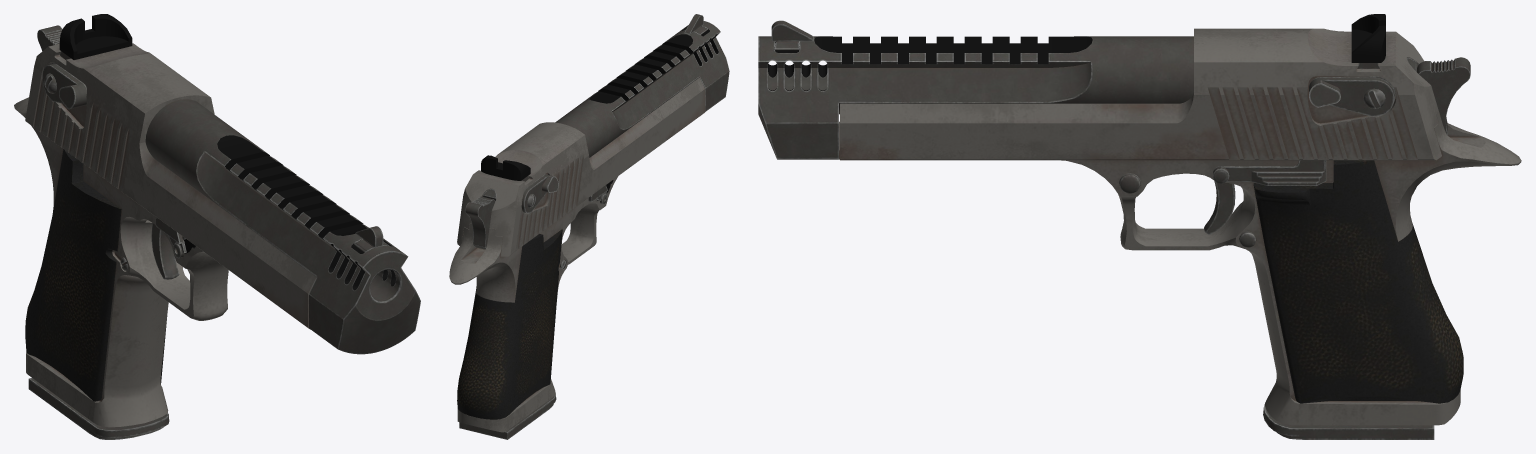
File: desert_eagle_gun.glb
The picture shows the model from 3 angles, left to right: view 1: azimuth 30°, elevation 25°; view 2: azimuth 150°, elevation 25°; view 3: azimuth 270°, elevation 25°; orthographic projection. The views are drawn at different scales.
Parts seen in each view (by area): view 1: Desert Eagle_2; view 2: Desert Eagle_2; view 3: Desert Eagle_2.
Part boxes in pixels (x1=…): Desert Eagle_2: x1=14, y1=14, x2=420, y2=439; Desert Eagle_2: x1=449, y1=14, x2=729, y2=439; Desert Eagle_2: x1=758, y1=14, x2=1521, y2=439.
Size of the model in its own units: 0.3475 by 1.24 by 2.15.
Materials: 2 (1 with a texture image).
